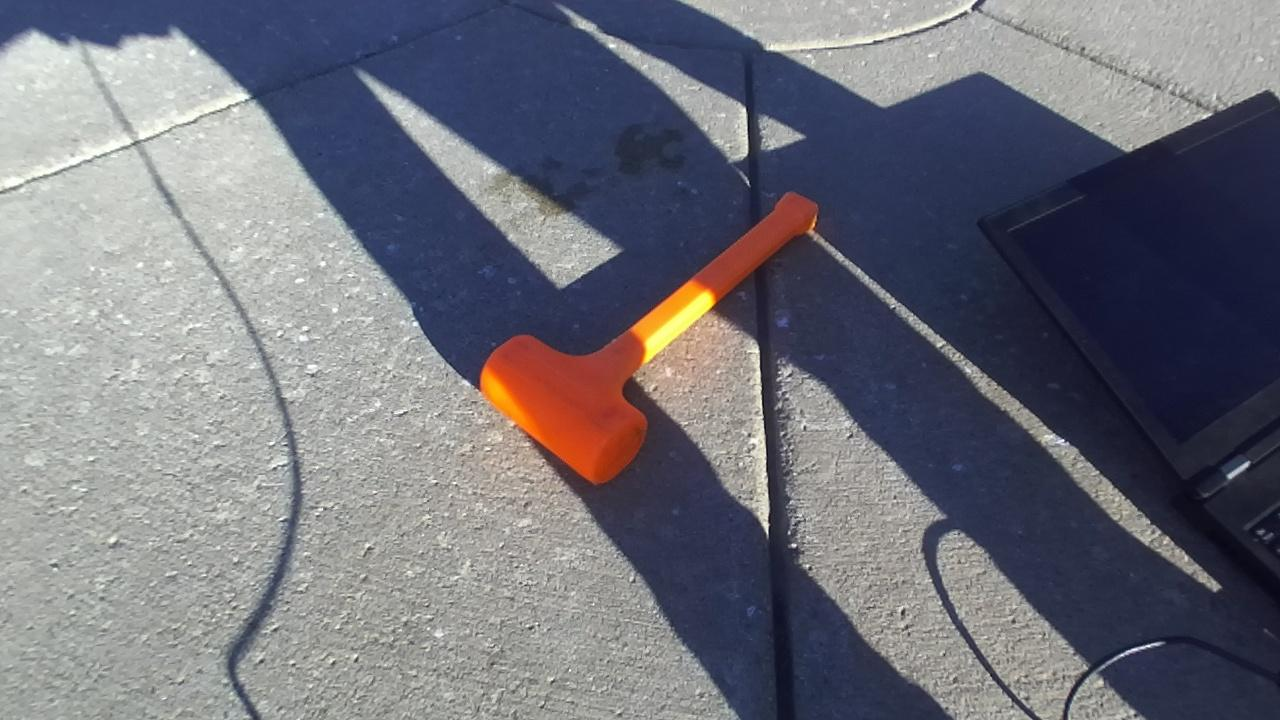mallet: (479, 193, 817, 483)
